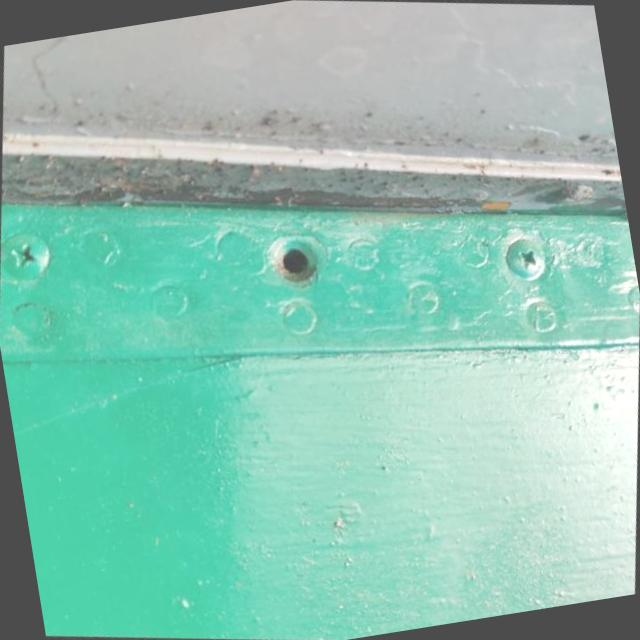Missing Fastener: (270, 230, 333, 294)
